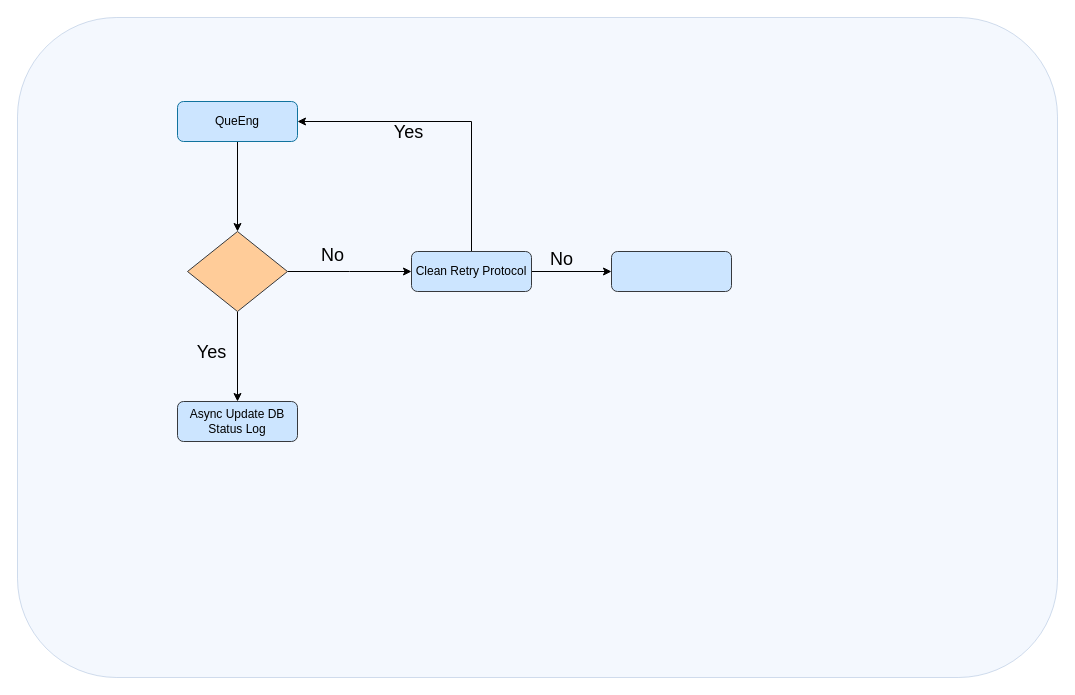
Some shapes in this 1075 by 695 pixel diagram are drawn without their labels. Here are the shapes that lost their labels. From the top down, the centre of each, then its label:
(x=237, y=271): Que Successful
(x=671, y=271): Notification Service
